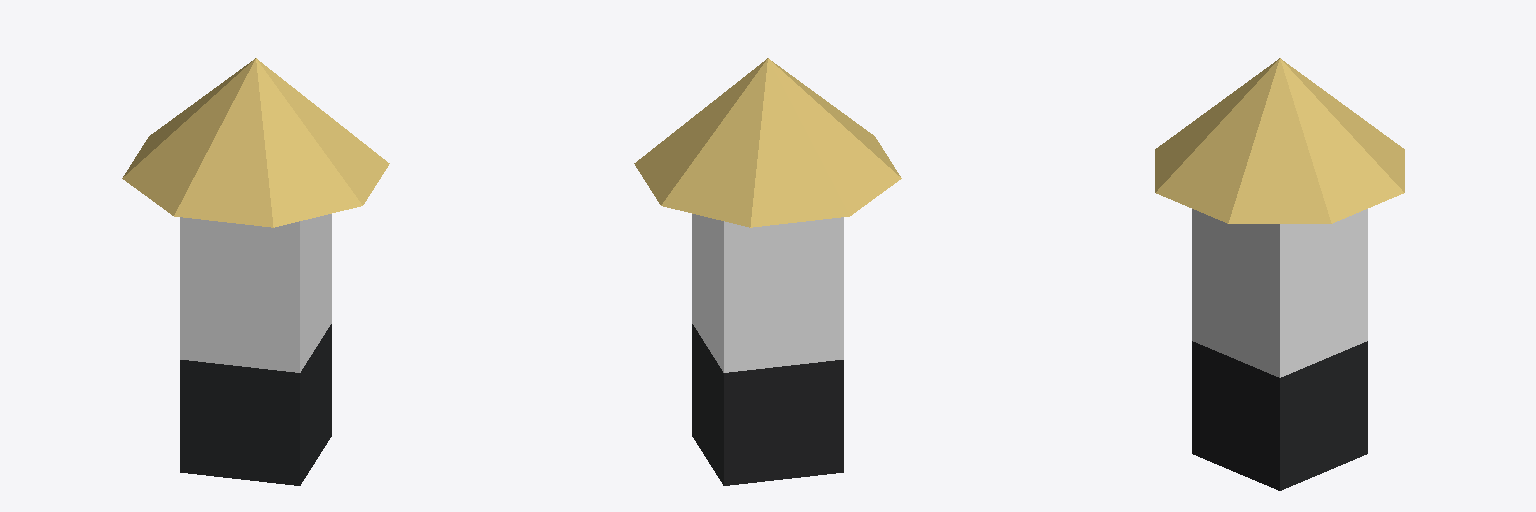
The picture shows the model from 3 angles: view 1: azimuth 30°, elevation 25°; view 2: azimuth 150°, elevation 25°; view 3: azimuth 270°, elevation 25°; orthographic projection.
Visible parts, largest first — view 1: cube, cone; view 2: cube, cone; view 3: cube, cone.
Boxes of the visible parts, x1,y1,x2,y2 form: cube: [180, 214, 331, 485]; cone: [122, 58, 389, 227]; cube: [692, 214, 843, 485]; cone: [634, 58, 901, 227]; cube: [1192, 209, 1367, 490]; cone: [1155, 58, 1404, 223].
Bounding box in the file's own units: 0.125 × 0.2188 × 0.125.
Materials: 1 (1 with a texture image).